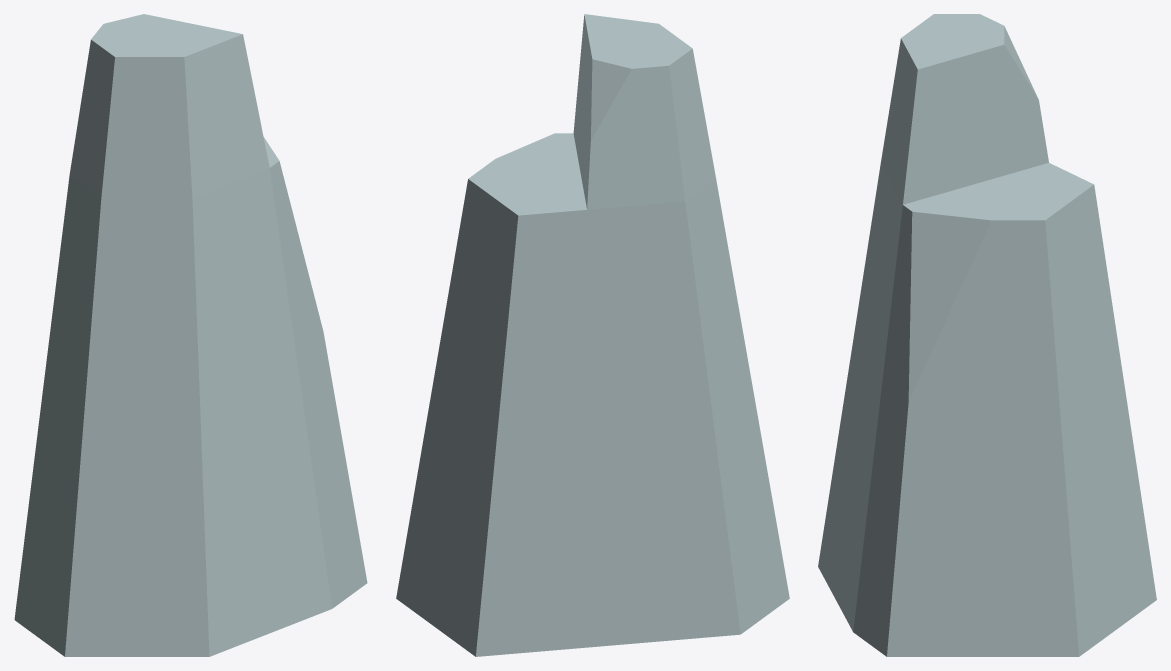
The model's file is stone_tallI.glb.
3 views of the same model, side by side, from view 1: azimuth 30°, elevation 25°; view 2: azimuth 150°, elevation 25°; view 3: azimuth 270°, elevation 25° (orthographic). The views are drawn at different scales.
Visible parts, largest first — view 1: stone_tallI; view 2: stone_tallI; view 3: stone_tallI.
Part boxes in pixels (box(x1,y1,x2,y2)): stone_tallI: box(14, 14, 367, 656); stone_tallI: box(396, 14, 789, 656); stone_tallI: box(818, 14, 1156, 656).
Size of the model in its own units: 0.4562 by 0.8118 by 0.4644.
